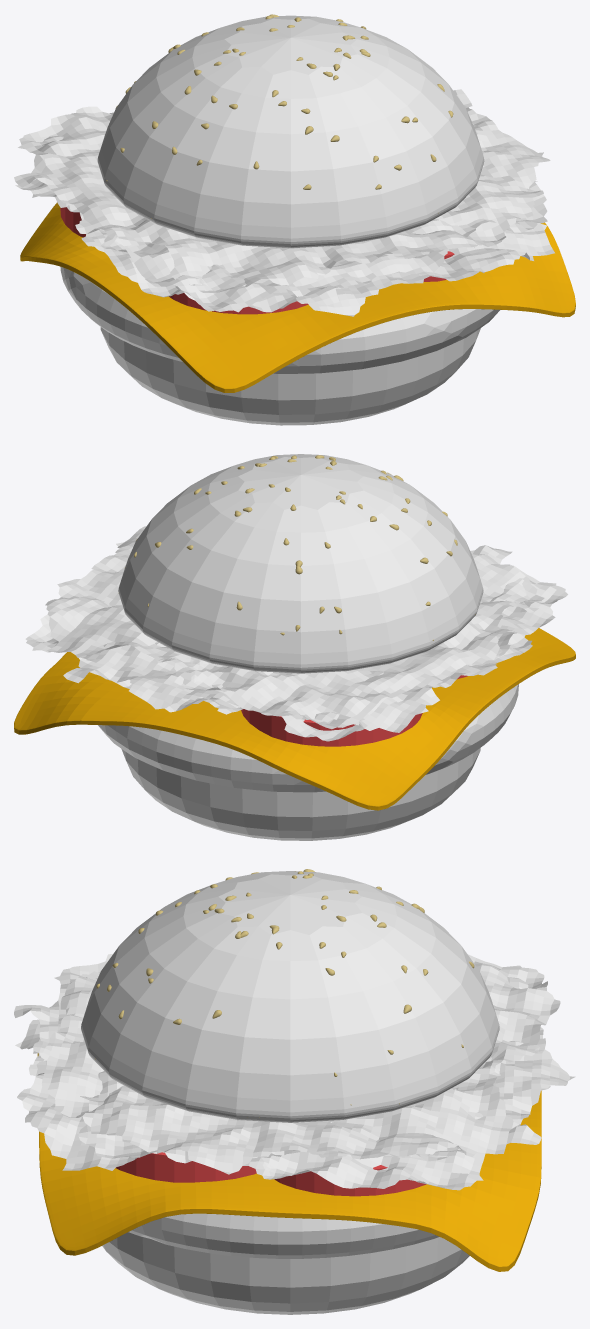
Rendered from Hamburger Pickup1.fbx.
The picture shows the model from 3 angles, top to bottom: view 1: azimuth 30°, elevation 25°; view 2: azimuth 150°, elevation 25°; view 3: azimuth 270°, elevation 25°; orthographic projection. The views are drawn at different scales.
Visible parts, largest first — view 1: UpperBread, Da Cheese, Tomato2, LowerBread, Cylinder, Tomato2.001, Tomato2.002, Tomato1.001; view 2: UpperBread, Da Cheese, Tomato2, LowerBread, Tomato2.001, Cylinder, Tomato2.002, Tomato1.004; view 3: UpperBread, Tomato2, Da Cheese, LowerBread, Tomato2.002, Cylinder, Tomato2.001, Tomato1, Tomato1.003.
Part boxes in pixels (<box>): UpperBread: <box>97,15,484,248</box>; Da Cheese: <box>20,202,575,392</box>; Tomato2: <box>14,89,550,292</box>; LowerBread: <box>100,327,480,425</box>; Cylinder: <box>60,266,500,373</box>; Tomato2.001: <box>15,136,547,312</box>; Tomato2.002: <box>51,195,554,316</box>; Tomato1.001: <box>169,293,308,314</box>; UpperBread: <box>118,454,483,673</box>; Da Cheese: <box>14,628,575,810</box>; Tomato2: <box>45,526,544,729</box>; LowerBread: <box>121,748,480,840</box>; Tomato2.001: <box>79,545,567,732</box>; Cylinder: <box>98,684,518,792</box>; Tomato2.002: <box>25,614,532,741</box>; Tomato1.004: <box>241,709,422,746</box>; UpperBread: <box>81,871,499,1122</box>; Tomato2: <box>33,954,560,1174</box>; Da Cheese: <box>37,1053,541,1271</box>; LowerBread: <box>102,1232,469,1314</box>; Tomato2.002: <box>15,1019,550,1190</box>; Cylinder: <box>128,1213,439,1258</box>; Tomato2.001: <box>14,954,575,1163</box>; Tomato1: <box>116,1152,256,1182</box>; Tomato1.003: <box>274,1165,426,1196</box>.
Bounding box in the file's own units: 241 × 173 × 249.
